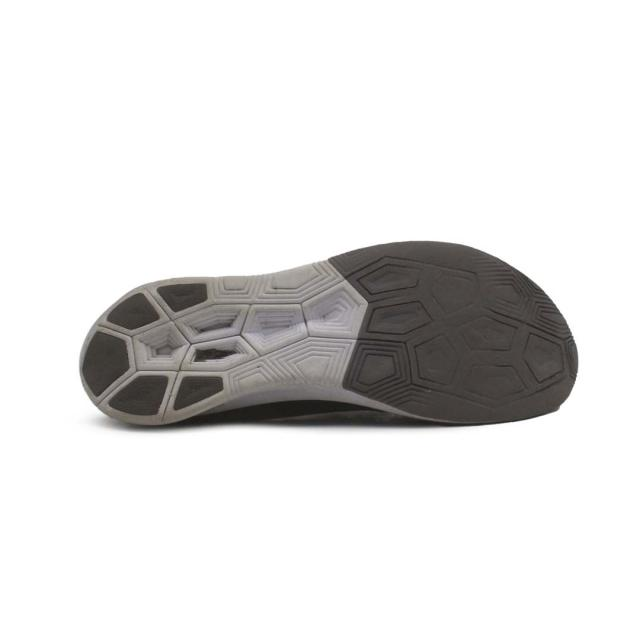outersole: (77, 240, 574, 427)
